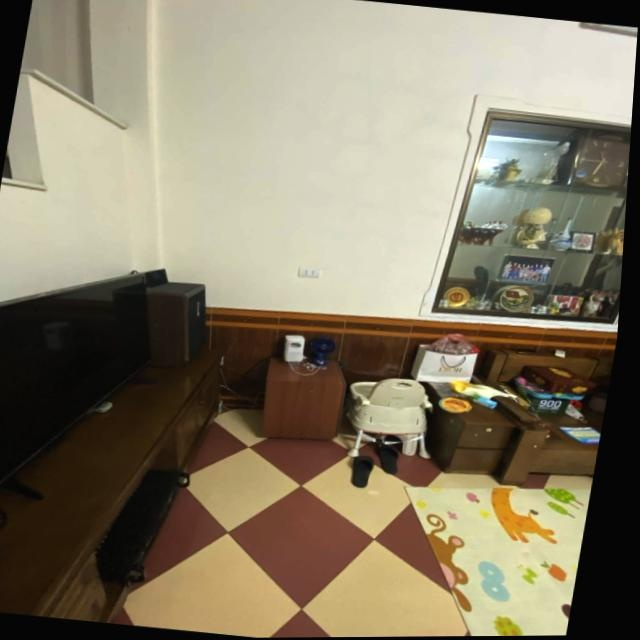outlet: (296, 266, 320, 279)
